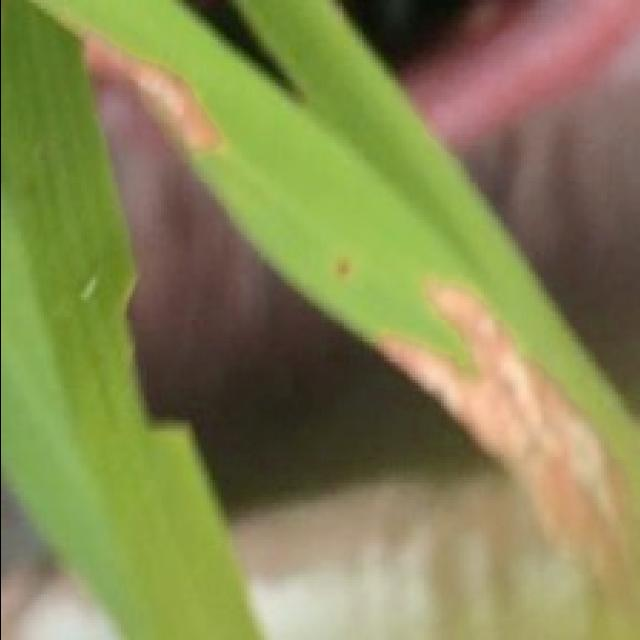Unhealthy: (374, 279, 640, 632), (66, 17, 232, 161), (78, 272, 102, 301), (334, 257, 354, 284)
